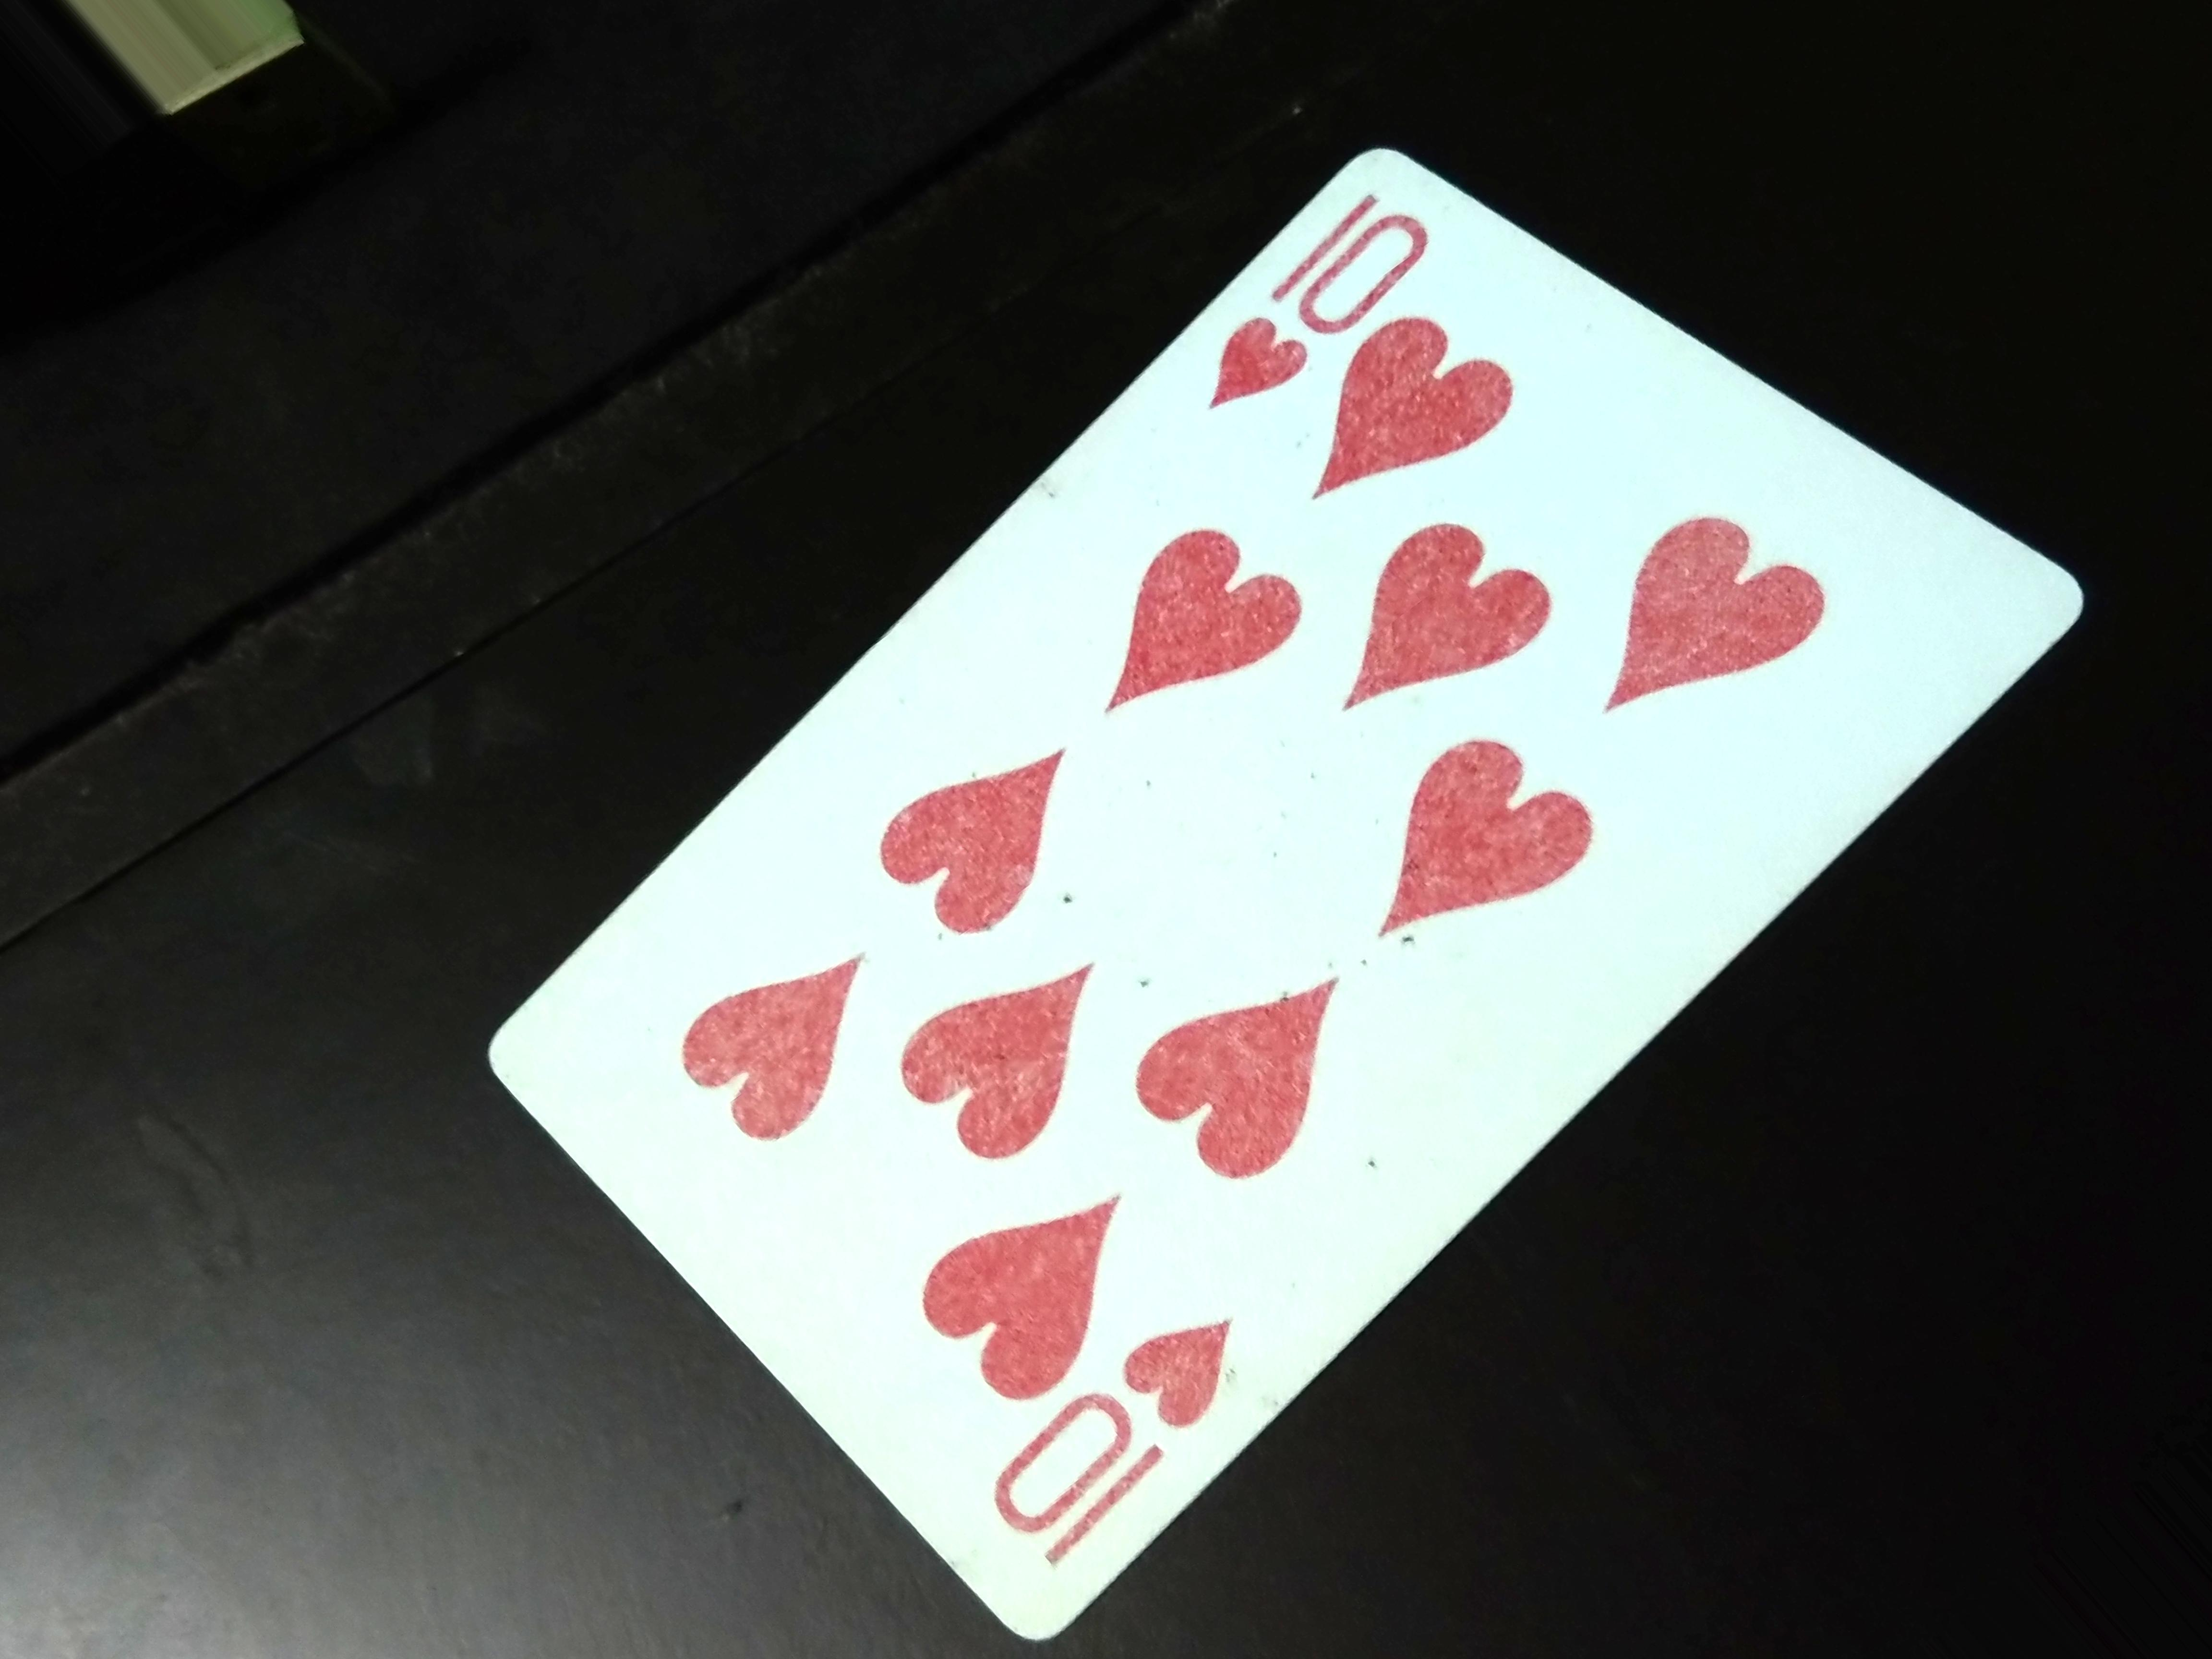10H: (1183, 176, 1425, 432)
